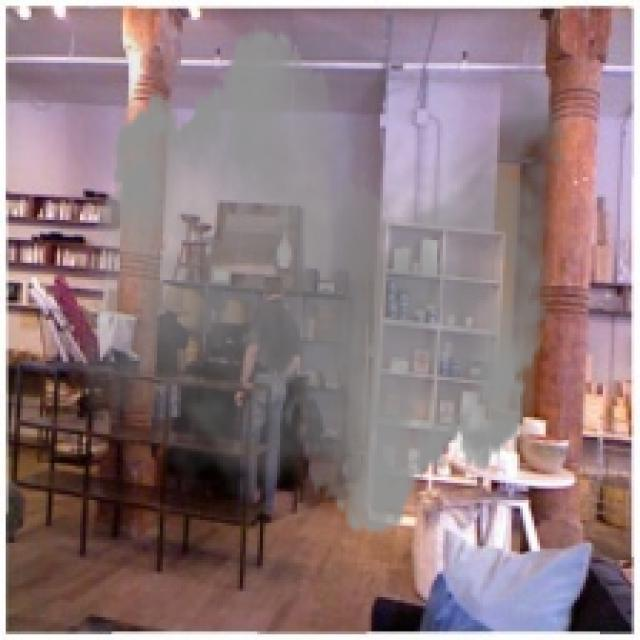Smoke: (65, 11, 586, 552)
